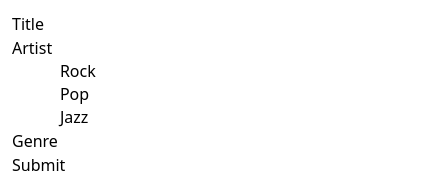
TrackForm validation › показывает ошибки только после сабмита
The image size is (424, 194).
Click the button with test id "submit-button" at {"x": 39, "y": 165}, box 12,153 -> 65,177
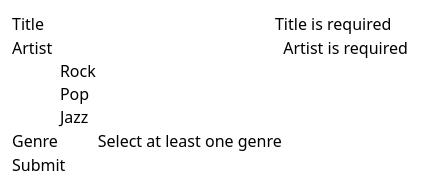
Now the text "Title is required" is shown, box 275,13 -> 391,35
Now the text "Artist is required" is shown, box 283,37 -> 408,59
Now the text "Select at least one genre" is shown, box 98,130 -> 282,152
